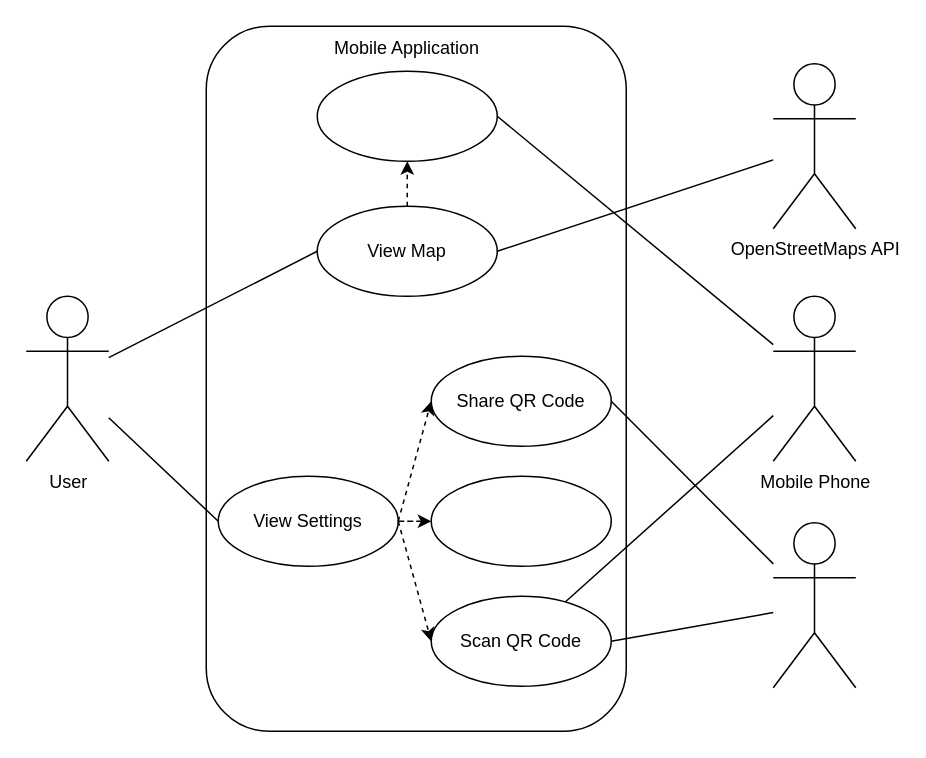
This 926x758 diagram has some shape labels left out. Each missing label, with the box of its shape:
Change Layer Colour: (430, 475, 611, 566)
Find Position: (316, 70, 497, 161)
Second User: (772, 521, 856, 688)
